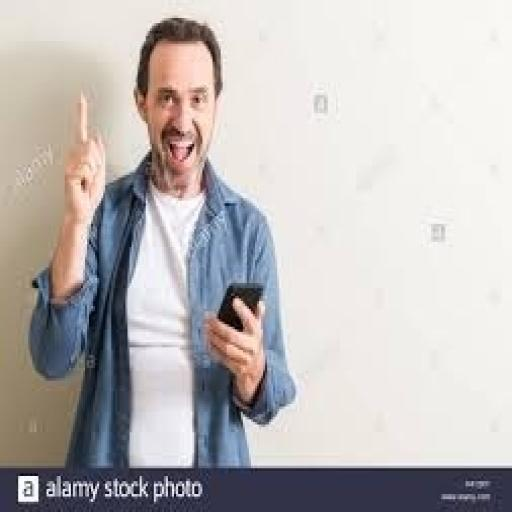texting: (26, 13, 298, 468)
